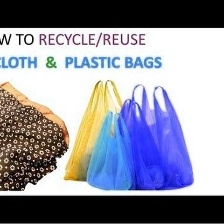plastic_bag: (59, 72, 142, 183), (129, 82, 197, 189), (114, 97, 165, 194), (85, 106, 133, 191)
